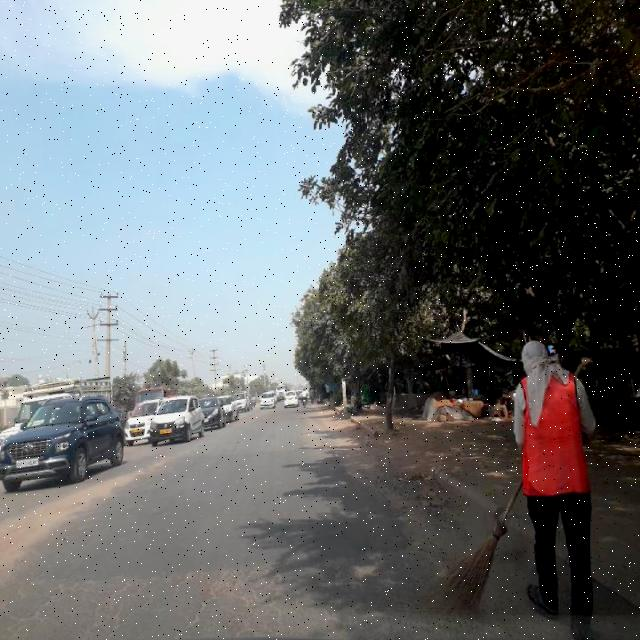D20: (1, 546, 419, 639)
